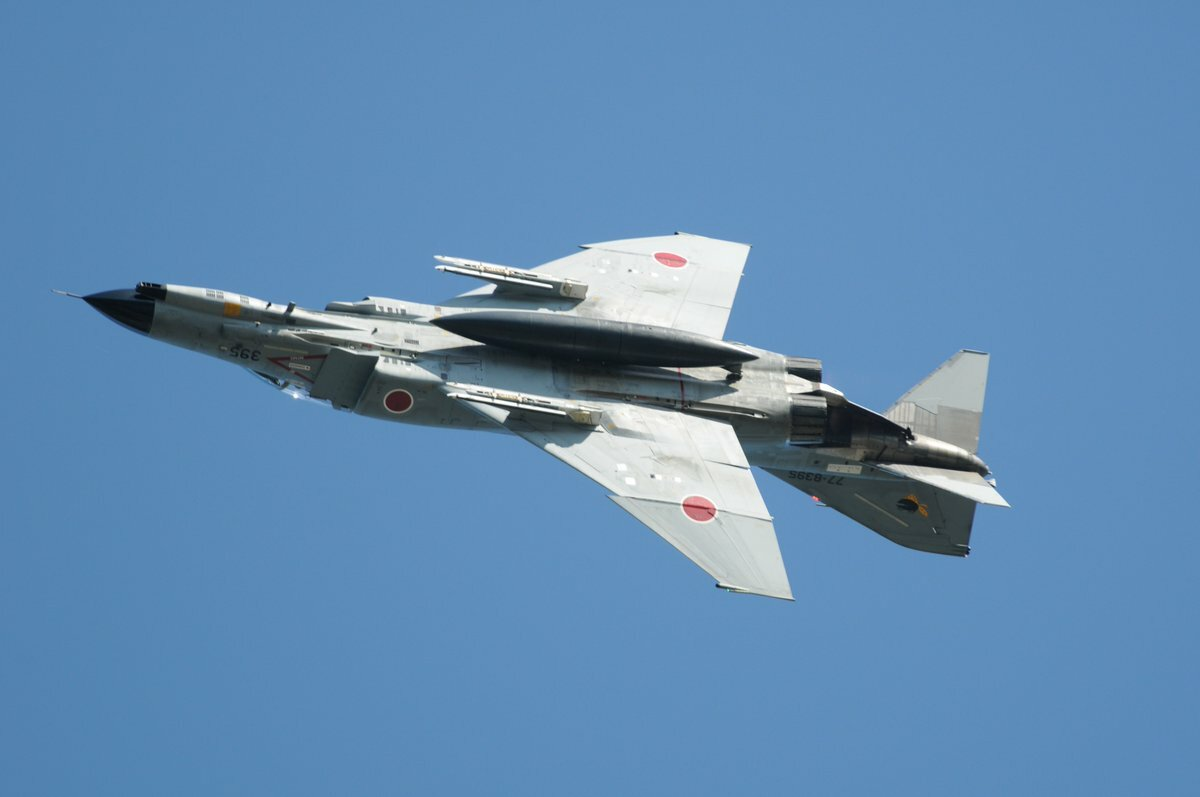F4: (49, 230, 1013, 602)
